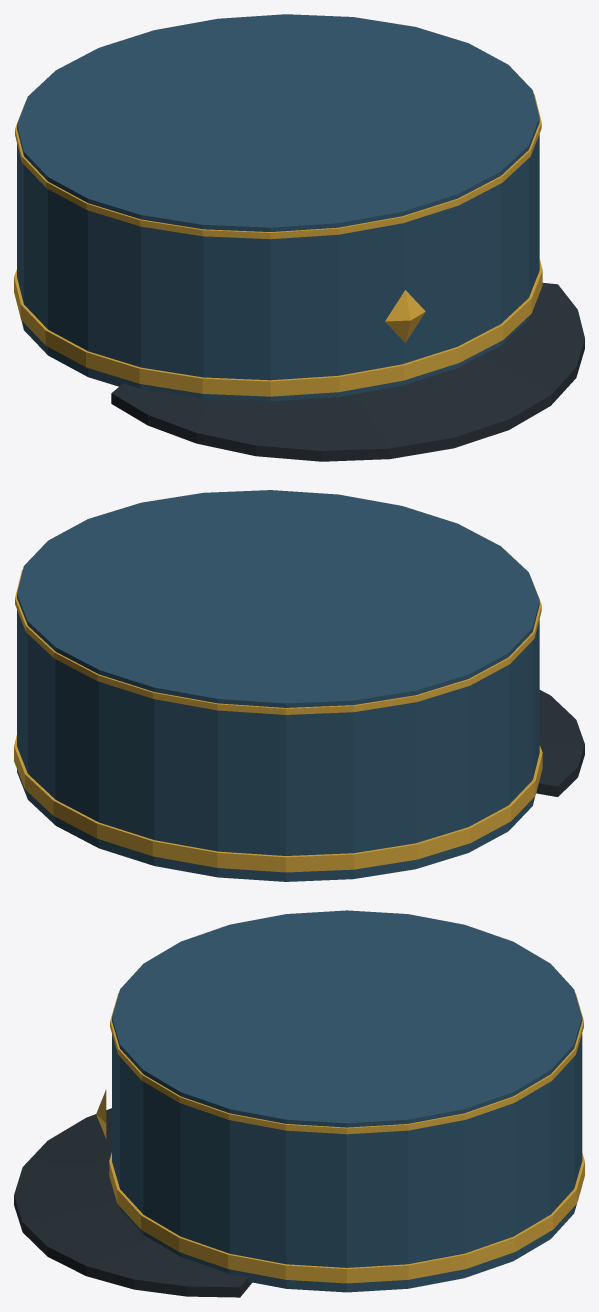
Rendered from cap-initial.glb.
3 renders of one model, top to bottom at view 1: azimuth 30°, elevation 25°; view 2: azimuth 150°, elevation 25°; view 3: azimuth 270°, elevation 25°, orthographic. The views are drawn at different scales.
Visible parts, largest first — view 1: wear_head_conductor_drum, wear_head_conductor_peak, wear_head_conductor_brass_band, wear_head_conductor_brass_crown, wear_head_conductor_badge; view 2: wear_head_conductor_drum, wear_head_conductor_brass_band, wear_head_conductor_brass_crown, wear_head_conductor_peak; view 3: wear_head_conductor_drum, wear_head_conductor_peak, wear_head_conductor_brass_band, wear_head_conductor_brass_crown.
Boxes of the visible parts, x1,y1,x2,y2 form: wear_head_conductor_drum: [17, 14, 539, 401]; wear_head_conductor_peak: [111, 283, 584, 461]; wear_head_conductor_brass_band: [14, 259, 542, 396]; wear_head_conductor_brass_crown: [15, 94, 541, 239]; wear_head_conductor_badge: [385, 290, 425, 342]; wear_head_conductor_drum: [17, 490, 539, 881]; wear_head_conductor_brass_band: [14, 735, 542, 872]; wear_head_conductor_brass_crown: [15, 569, 541, 714]; wear_head_conductor_peak: [536, 690, 584, 796]; wear_head_conductor_drum: [112, 910, 582, 1292]; wear_head_conductor_peak: [14, 1108, 252, 1297]; wear_head_conductor_brass_band: [109, 1152, 584, 1283]; wear_head_conductor_brass_crown: [110, 993, 583, 1134].
Bounding box in the file's own units: 0.546 × 0.2228 × 0.612.
